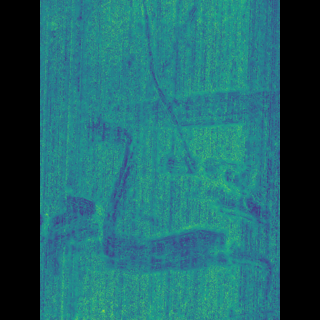Loch: (69, 111, 146, 282), (137, 0, 190, 174), (109, 221, 248, 287), (159, 142, 242, 227)
